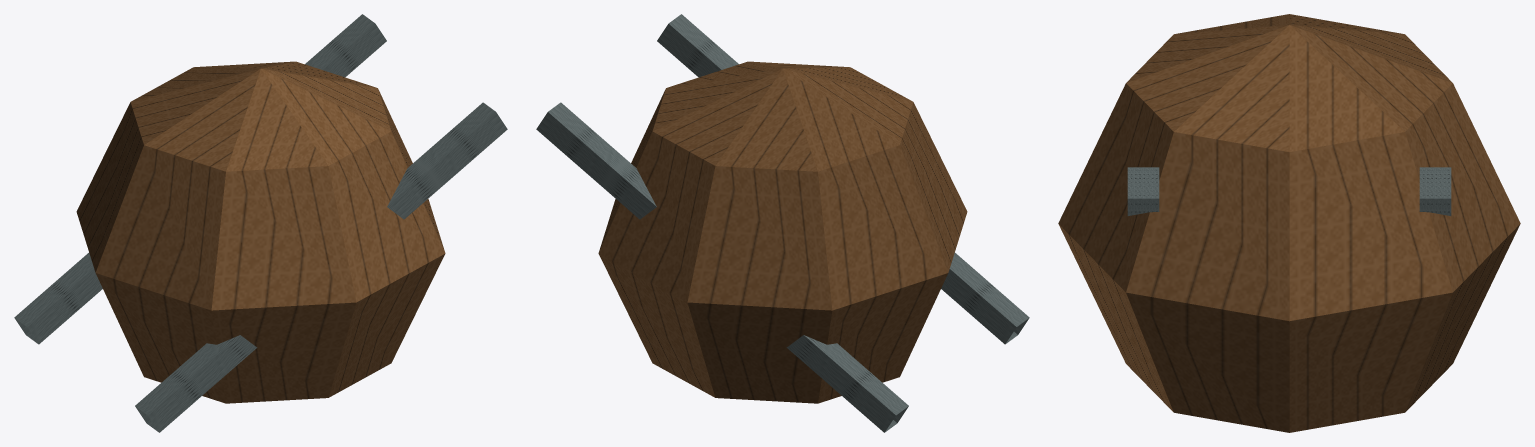
Rendered from military-FIRE_BALL-1-lod0.glb.
The picture shows the model from 3 angles, left to right: view 1: azimuth 30°, elevation 25°; view 2: azimuth 150°, elevation 25°; view 3: azimuth 270°, elevation 25°; orthographic projection. The views are drawn at different scales.
Bounding box in the file's own units: 0.4134 × 0.36 × 0.38.
1 material, 1 textured.
